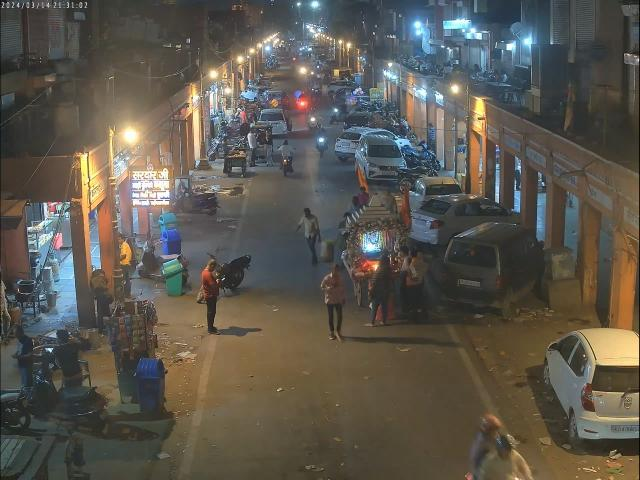auto: (257, 109, 290, 136)
bus: (444, 222, 534, 316)
car: (542, 322, 640, 449), (410, 193, 518, 245)
motorbike: (208, 252, 252, 294)
motorbike-rider: (276, 138, 294, 177)
person: (320, 260, 348, 344), (198, 259, 223, 339), (367, 254, 392, 330), (297, 208, 322, 268)
scooty: (27, 358, 107, 434), (137, 236, 190, 282)
